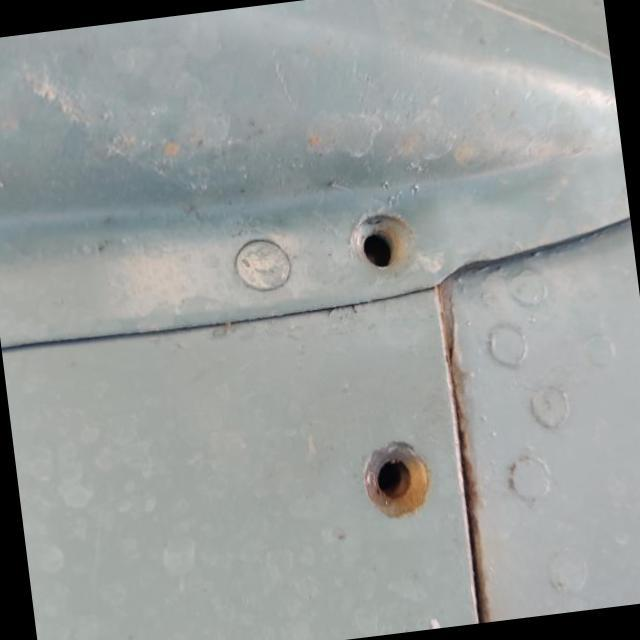Fastener Damage: (326, 408, 476, 550), (318, 180, 452, 316)
